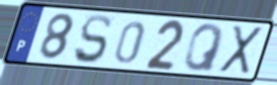0: (112, 19, 150, 65)
2: (144, 18, 187, 73)
8: (37, 12, 75, 62)
Q: (181, 22, 226, 74)
S: (71, 13, 113, 66)
X: (217, 24, 265, 76)
